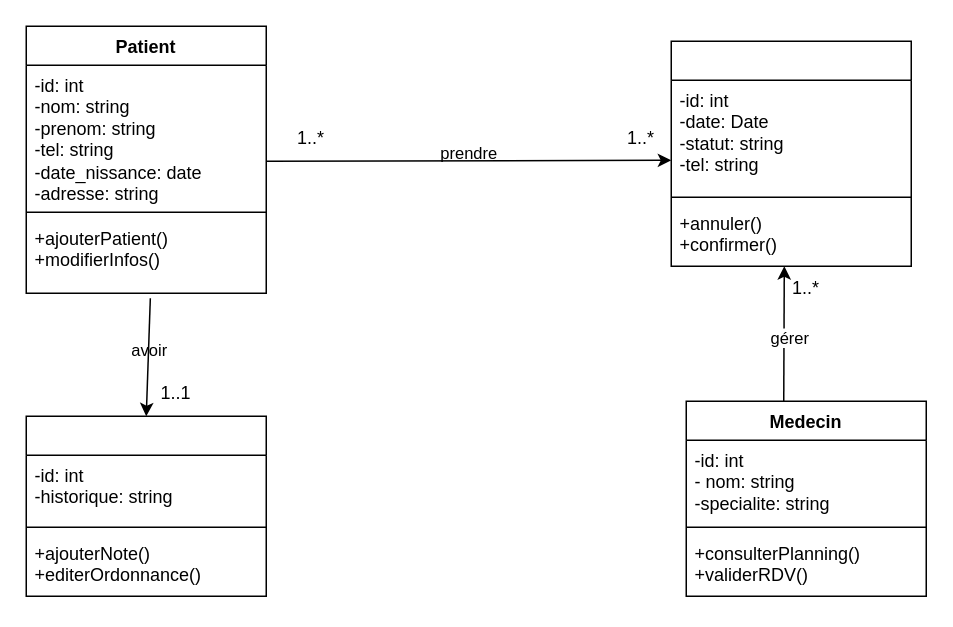
The diagram is 953 pixels wide and 627 high, and some of its shapes have lost their labels. Here are the shapes that lost their labels. From the top down, the box of each, then its label:
(670, 40, 911, 266): RendezVous
(25, 415, 266, 596): DossierMedical
